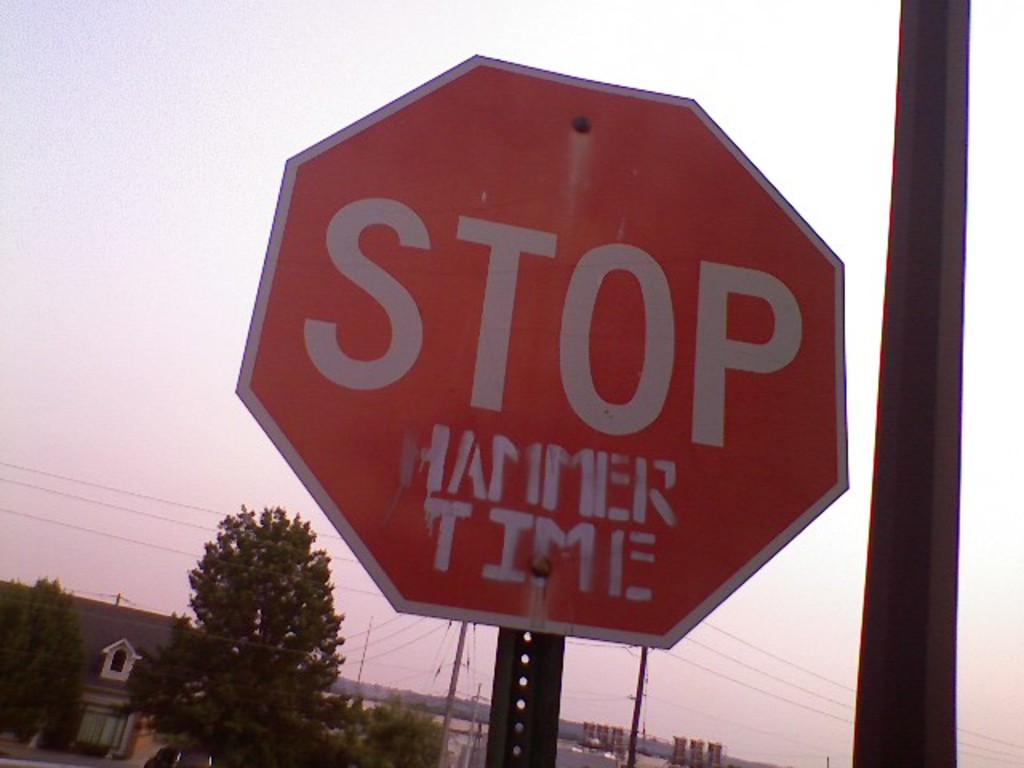stop_sign: (241, 56, 851, 650)
